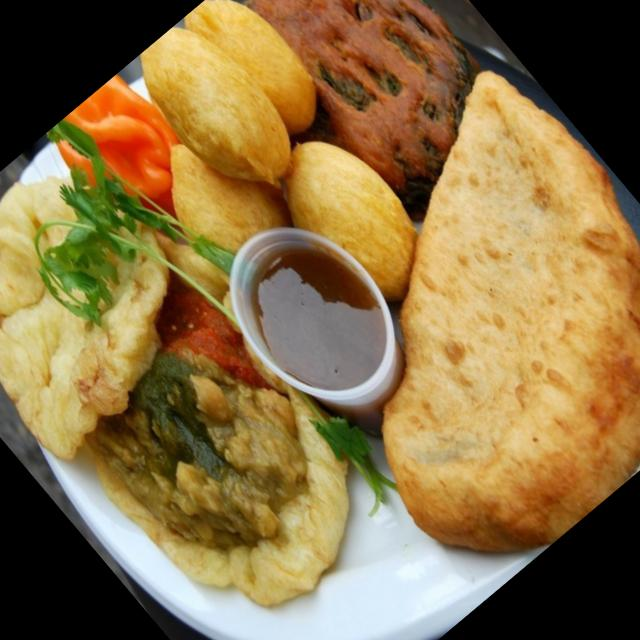Bhatura: (221, 53, 640, 602)
